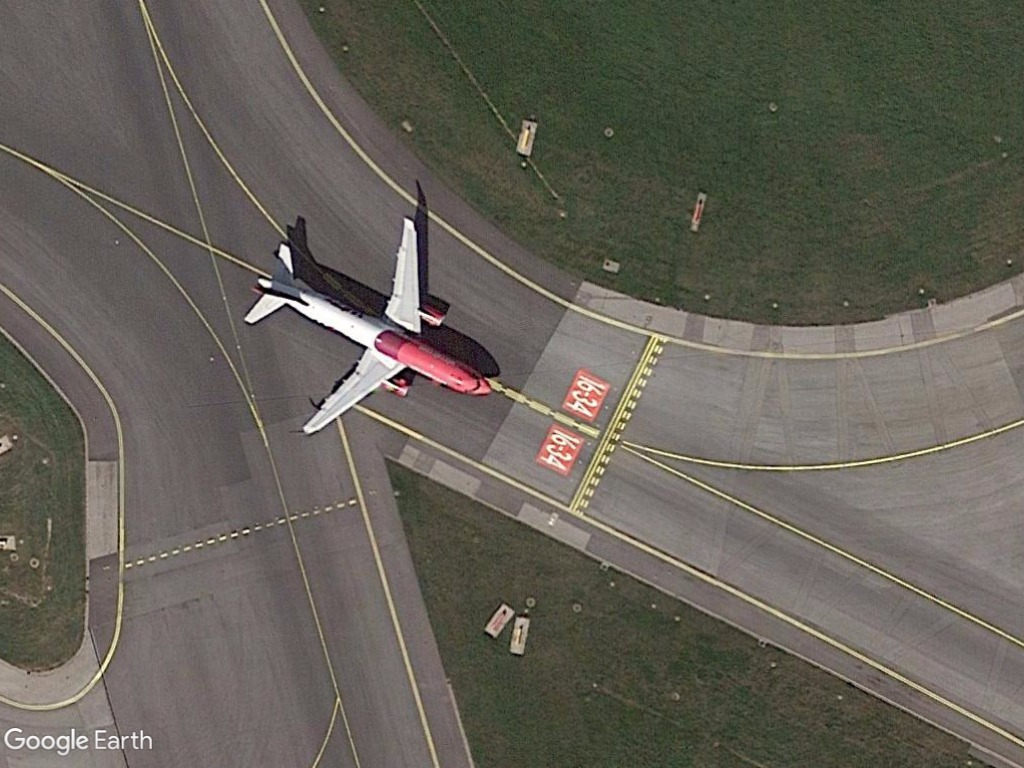airliner: (236, 213, 500, 438)
